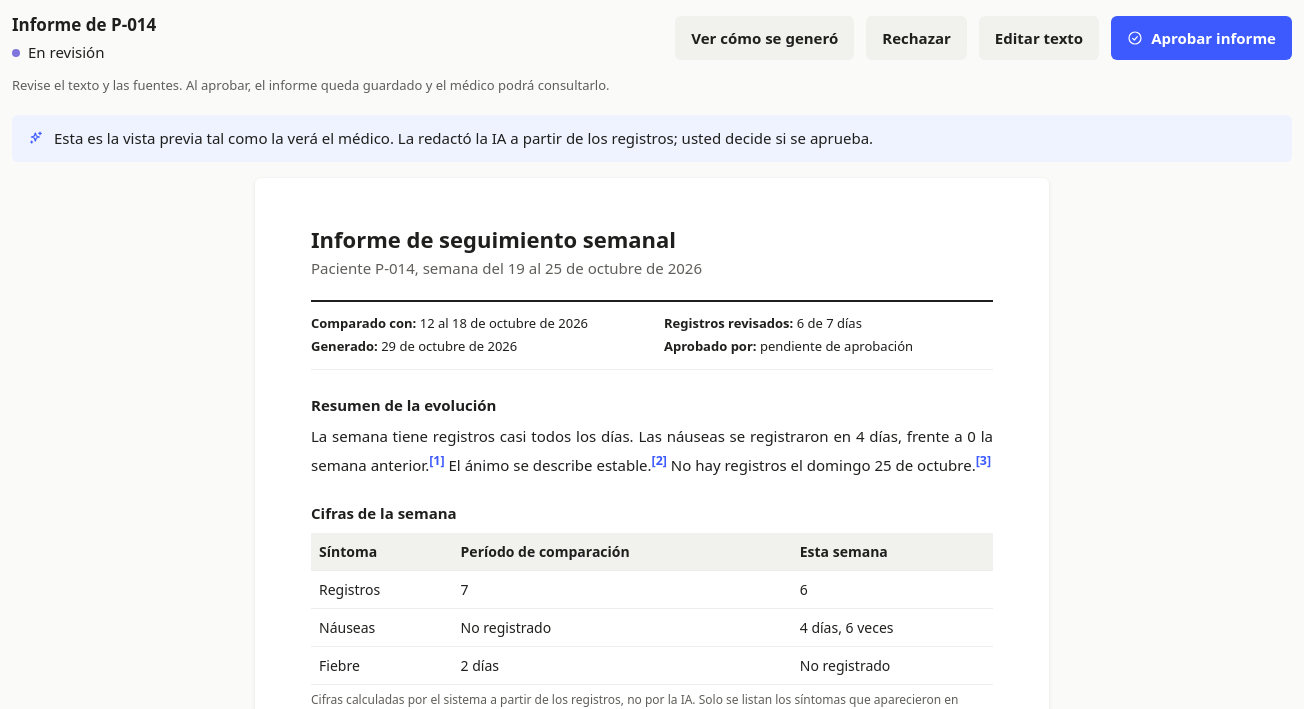
Test case: ReportViewComponent (vInfVer y hojaHTML del mockup) › rechazar pide el motivo, no manda nada sin el y muestra el rechazo con su motivo
The width and height of the screenshot is (1304, 709).
Click the button "Rechazar": coordinates (917, 38) [866, 16, 967, 60]
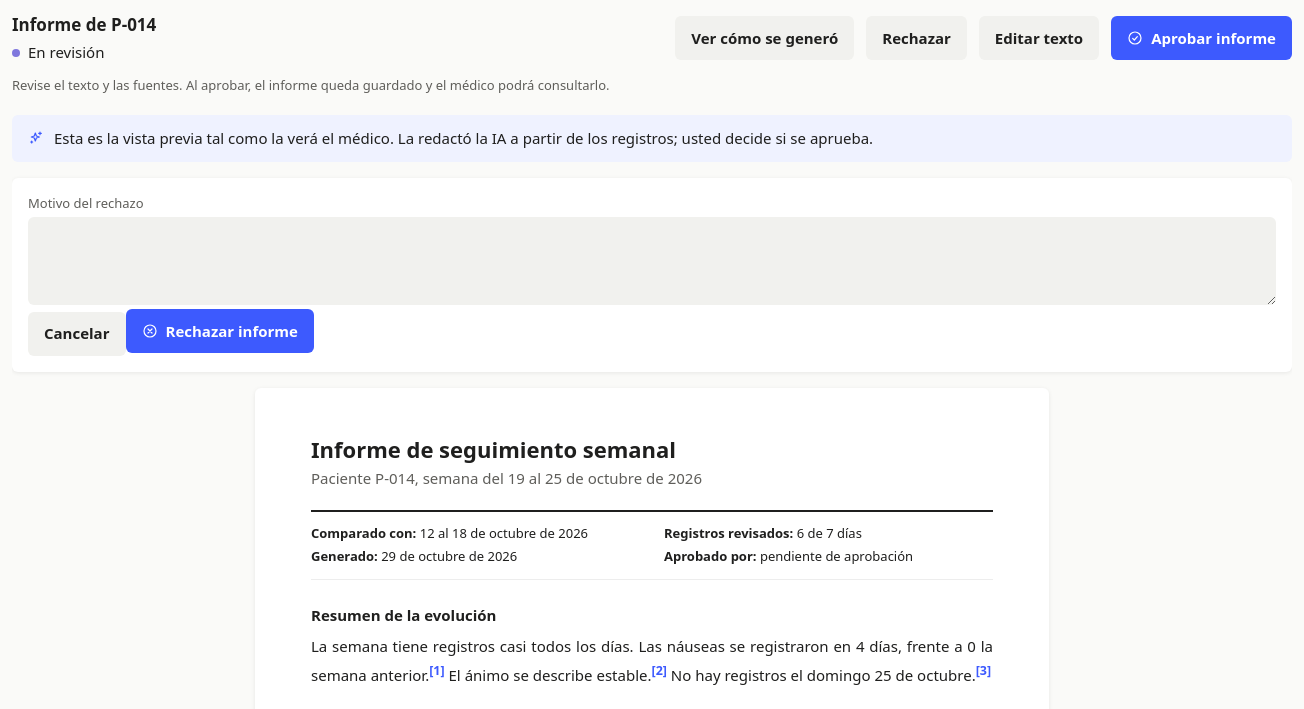
Click the button "Rechazar informe": coordinates (220, 331) [126, 309, 314, 353]
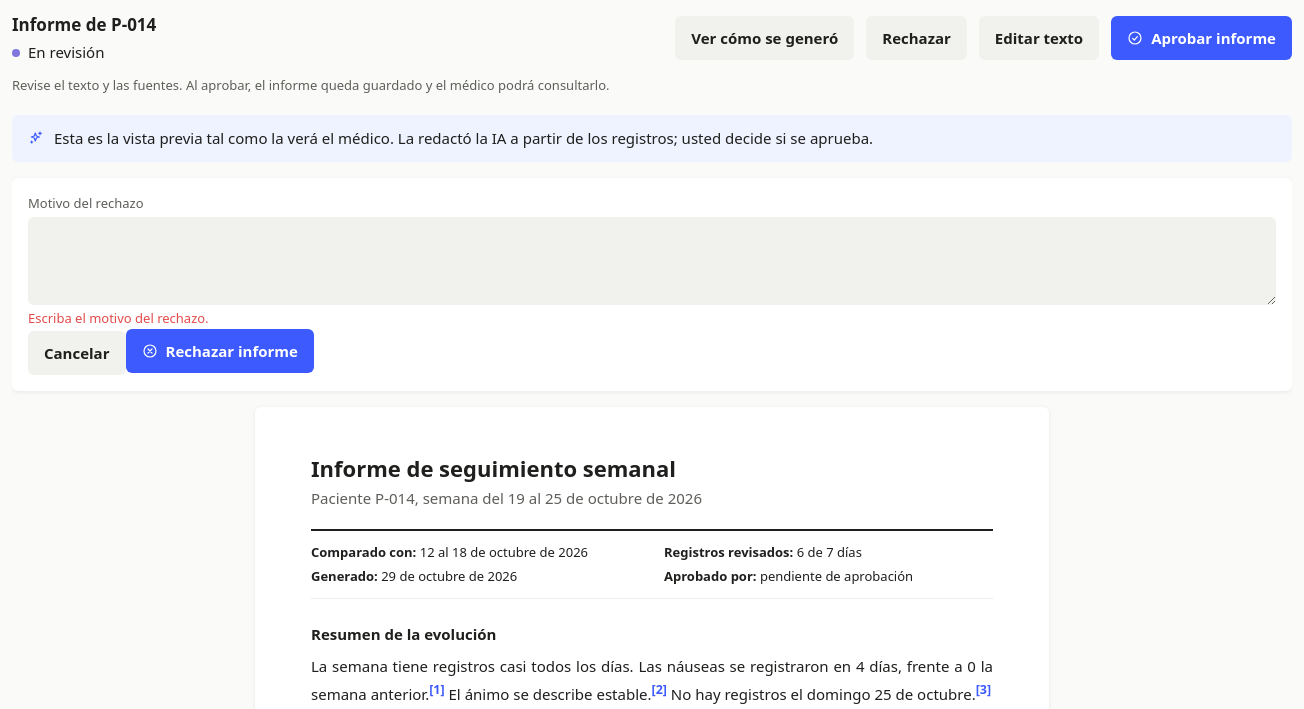
Check: the text "Escriba el motivo del rechazo." is shown, box [28, 309, 209, 327]
In the text box with id "ir-motivo": coordinates (652, 261) [28, 217, 1276, 305], type "No concuerda con el registro del martes."
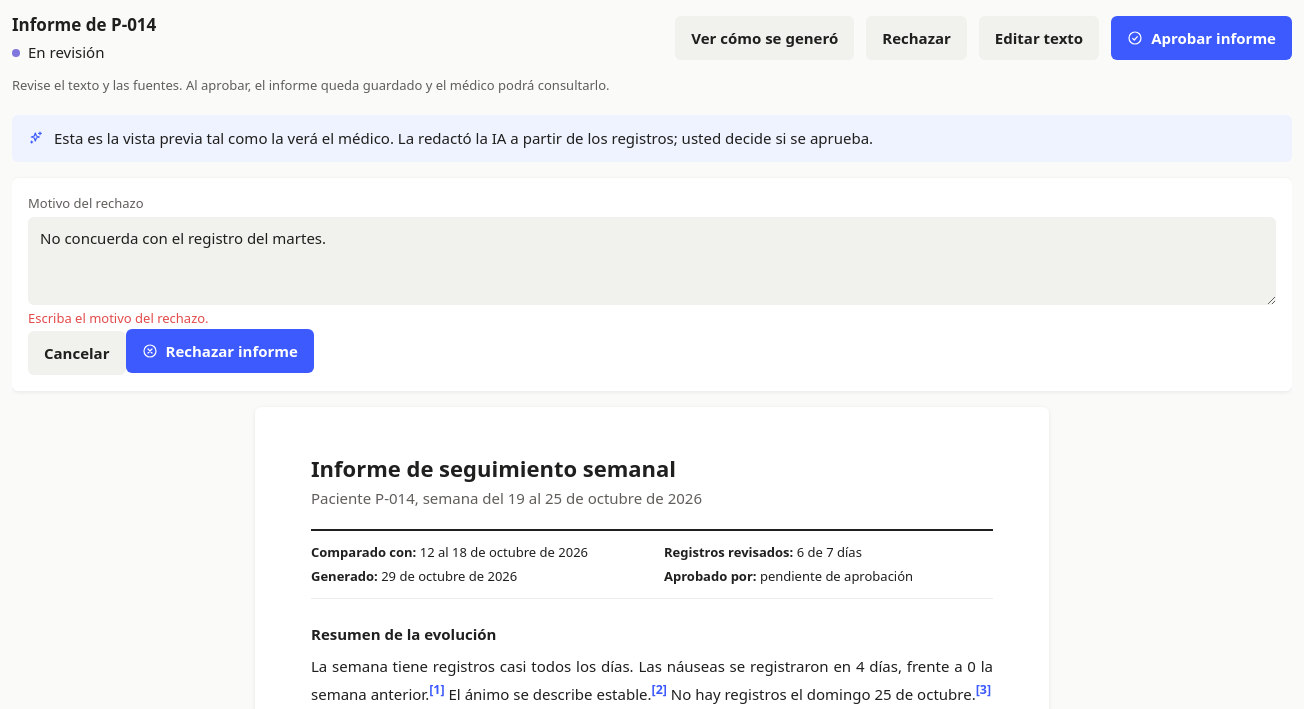
Click the button "Rechazar informe": coordinates (220, 351) [126, 329, 314, 373]
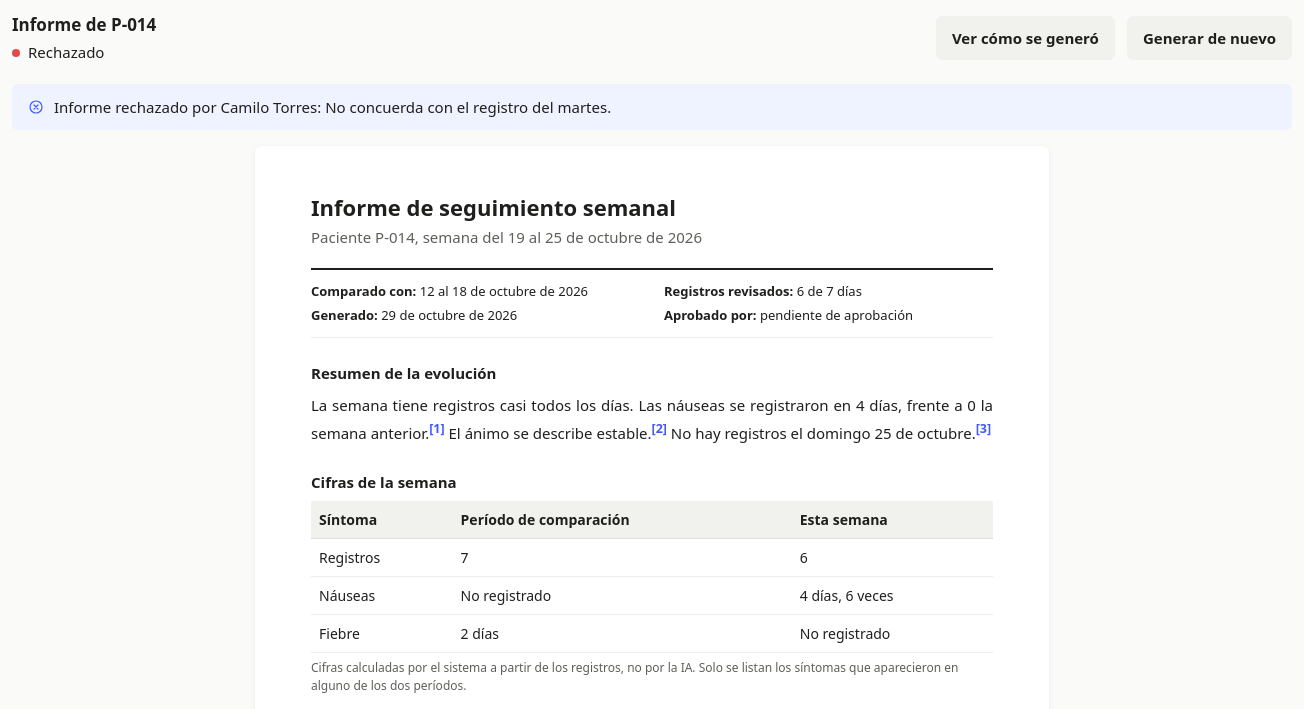
Check: the element with class "est" reads "Rechazado", box [28, 42, 104, 62]
Check: the element with class "aviso" reads "Informe rechazado por Camilo Torres: No concuerda con el registro del martes.", box [54, 97, 611, 117]
Check: the text "Generar de nuevo" is shown, box [1127, 16, 1292, 60]
